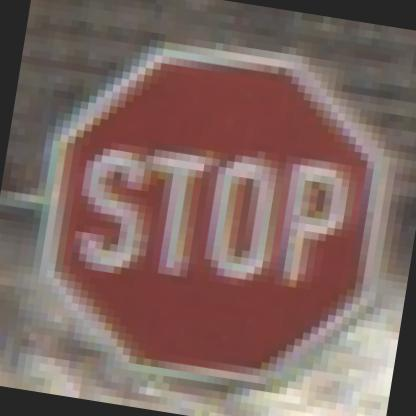stop: (6, 37, 415, 405)
